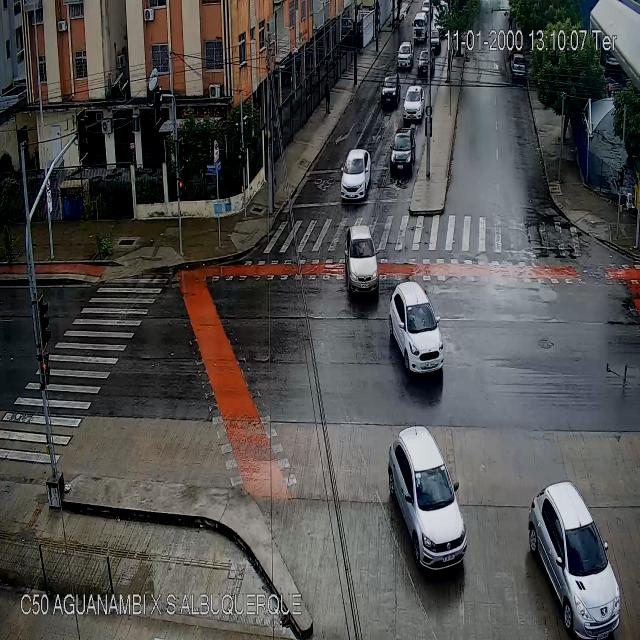Car: (529, 480, 622, 639), (389, 425, 466, 569), (389, 282, 446, 378), (345, 222, 379, 293), (341, 148, 372, 203), (389, 125, 418, 177), (403, 82, 426, 121), (381, 74, 401, 107), (417, 49, 434, 80), (412, 12, 428, 44), (396, 40, 412, 68), (512, 56, 526, 80), (428, 31, 441, 49)
